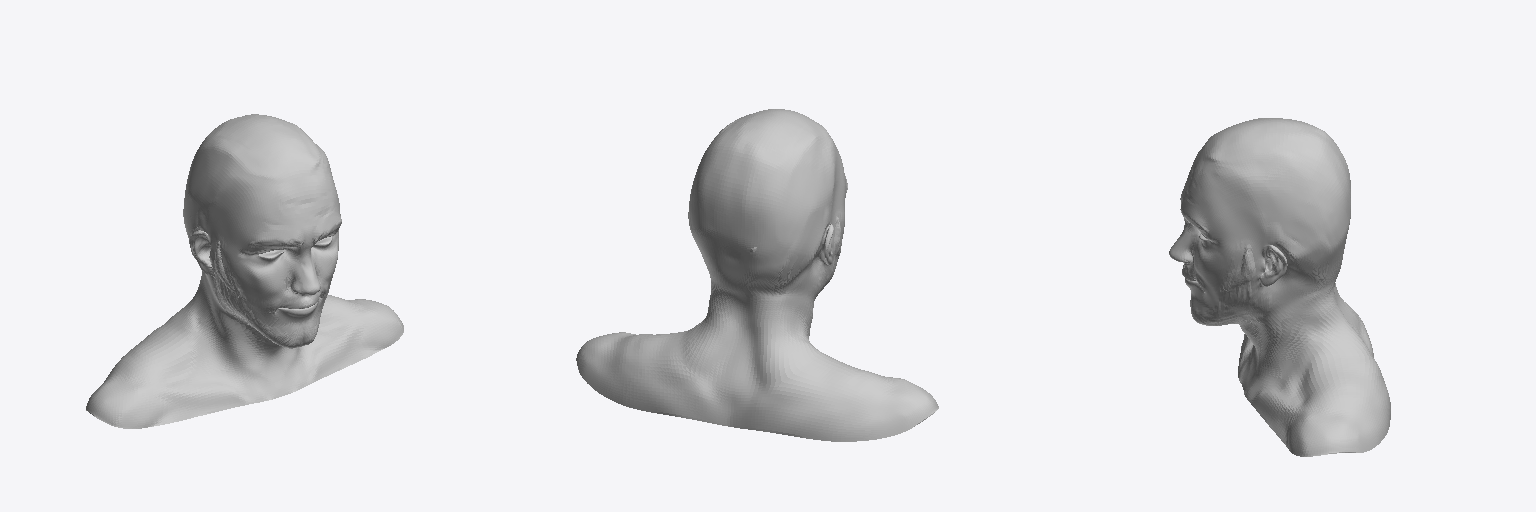
The model's file is Head (No Hair).OBJ.
The picture shows the model from 3 angles: view 1: azimuth 30°, elevation 25°; view 2: azimuth 150°, elevation 25°; view 3: azimuth 270°, elevation 25°; orthographic projection.
Parts seen in each view (by area): view 1: Group1; view 2: Group1; view 3: Group1.
Part boxes in pixels (x1,y1,x2,y2): Group1: (86,114,403,428); Group1: (576,109,938,441); Group1: (1169,118,1390,456).
Bounding box in the file's own units: 1.98 × 1.54 × 1.15.